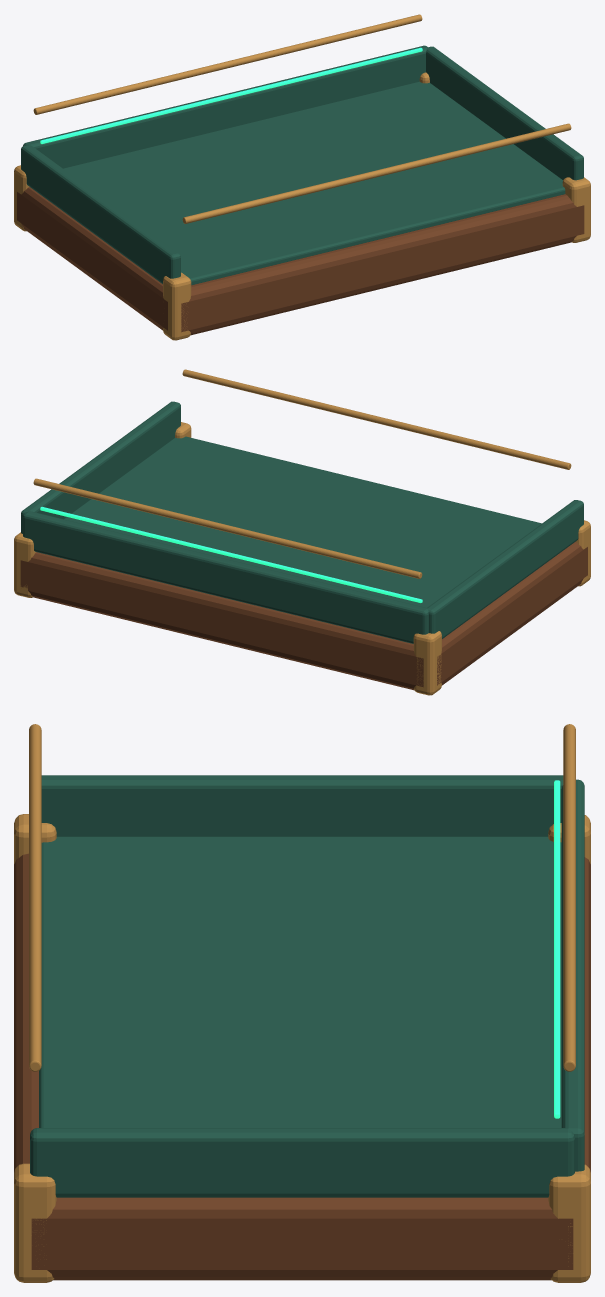
File: hybrid-archive-tray.glb
3 views of the same model, one above another, from view 1: azimuth 30°, elevation 25°; view 2: azimuth 150°, elevation 25°; view 3: azimuth 270°, elevation 25° (orthographic). The views are drawn at different scales.
Visible parts, largest first — view 1: Leather receiving surface, Walnut tray base, Back leather wall, Left leather wall, Right leather wall, Brass archive guard rail.001, Brass archive guard rail, Emerald active light, Brass tray corner, Brass tray corner.002, Brass tray corner.001; view 2: Leather receiving surface, Walnut tray base, Back leather wall, Left leather wall, Right leather wall, Brass archive guard rail, Brass archive guard rail.001, Emerald active light, Brass tray corner.001, Brass tray corner.003, Brass tray corner; view 3: Leather receiving surface, Walnut tray base, Right leather wall, Left leather wall, Back leather wall, Brass archive guard rail, Brass archive guard rail.001, Brass tray corner.002, Brass tray corner.003, Emerald active light, Brass tray corner.
Boxes of the visible parts, x1=… form: Leather receiving surface: x1=63, y1=81, x2=565, y2=285; Walnut tray base: x1=17, y1=187, x2=584, y2=335; Back leather wall: x1=23, y1=45, x2=427, y2=168; Left leather wall: x1=21, y1=145, x2=180, y2=283; Right leather wall: x1=426, y1=46, x2=583, y2=180; Brass archive guard rail.001: x1=33, y1=14, x2=422, y2=114; Brass archive guard rail: x1=182, y1=123, x2=571, y2=223; Emerald active light: x1=40, y1=47, x2=422, y2=143; Brass tray corner: x1=163, y1=272, x2=191, y2=340; Brass tray corner.002: x1=562, y1=177, x2=590, y2=242; Brass tray corner.001: x1=14, y1=165, x2=29, y2=231; Leather receiving surface: x1=64, y1=436, x2=541, y2=607; Walnut tray base: x1=20, y1=542, x2=587, y2=690; Back leather wall: x1=23, y1=511, x2=428, y2=643; Left leather wall: x1=427, y1=500, x2=583, y2=638; Right leather wall: x1=21, y1=401, x2=180, y2=533; Brass archive guard rail: x1=182, y1=369, x2=571, y2=469; Brass archive guard rail.001: x1=33, y1=478, x2=422, y2=578; Emerald active light: x1=40, y1=506, x2=422, y2=602; Brass tray corner.001: x1=413, y1=631, x2=441, y2=695; Brass tray corner.003: x1=14, y1=532, x2=35, y2=597; Brass tray corner: x1=575, y1=520, x2=590, y2=586; Leather receiving surface: x1=39, y1=836, x2=561, y2=1127; Walnut tray base: x1=14, y1=853, x2=590, y2=1280; Right leather wall: x1=30, y1=1128, x2=574, y2=1197; Left leather wall: x1=41, y1=775, x2=563, y2=836; Back leather wall: x1=561, y1=779, x2=584, y2=1171; Brass archive guard rail: x1=29, y1=724, x2=41, y2=1071; Brass archive guard rail.001: x1=563, y1=724, x2=575, y2=1071; Brass tray corner.002: x1=14, y1=1163, x2=56, y2=1282; Brass tray corner.003: x1=548, y1=1164, x2=590, y2=1282; Emerald active light: x1=554, y1=780, x2=560, y2=1118; Brass tray corner: x1=14, y1=814, x2=56, y2=863.
Bounding box in the file's own units: 4.9 × 1.3 × 3.25.
